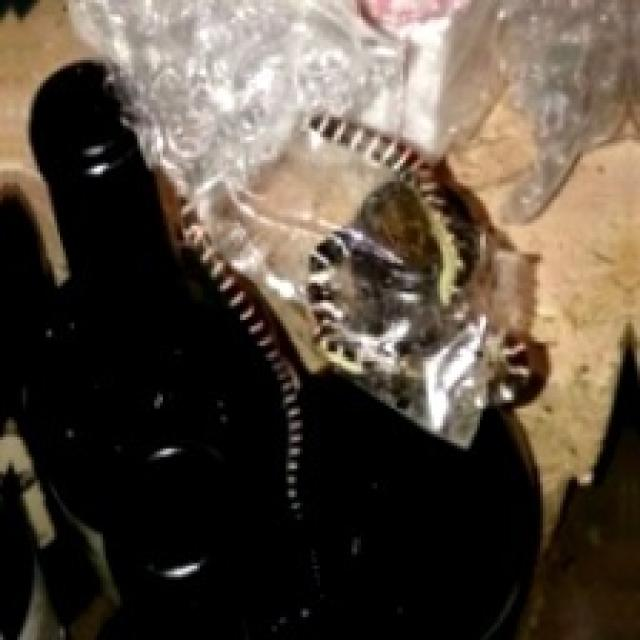paradise tree snake: (0, 63, 537, 637)
